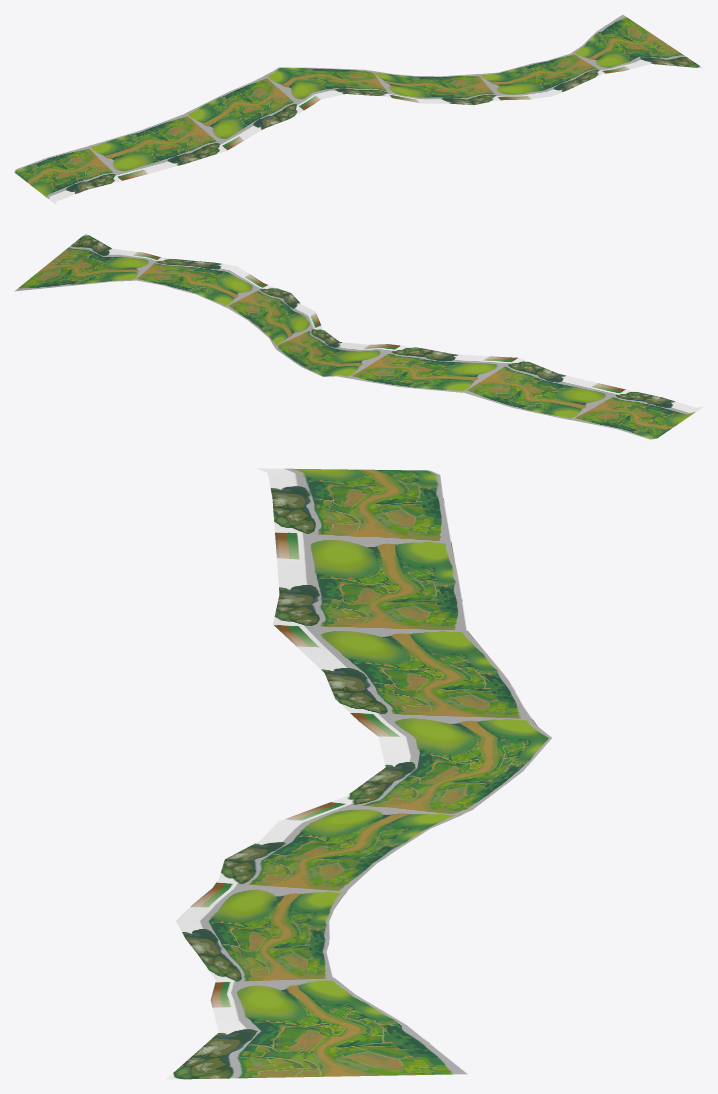
Rendered from SM_TopDownRiver_01.fbx.
The picture shows the model from 3 angles, top to bottom: view 1: azimuth 30°, elevation 25°; view 2: azimuth 150°, elevation 25°; view 3: azimuth 270°, elevation 25°; orthographic projection. The views are drawn at different scales.
Parts seen in each view (by area): view 1: SM_TopDownRiver_01; view 2: SM_TopDownRiver_01; view 3: SM_TopDownRiver_01.
Boxes of the visible parts, box(x1,y1,x2,y2) form: SM_TopDownRiver_01: box(14, 14, 703, 204); SM_TopDownRiver_01: box(14, 233, 703, 439); SM_TopDownRiver_01: box(166, 468, 551, 1079).
Bounding box in the file's own units: 237 × 4.07 × 63.44.
